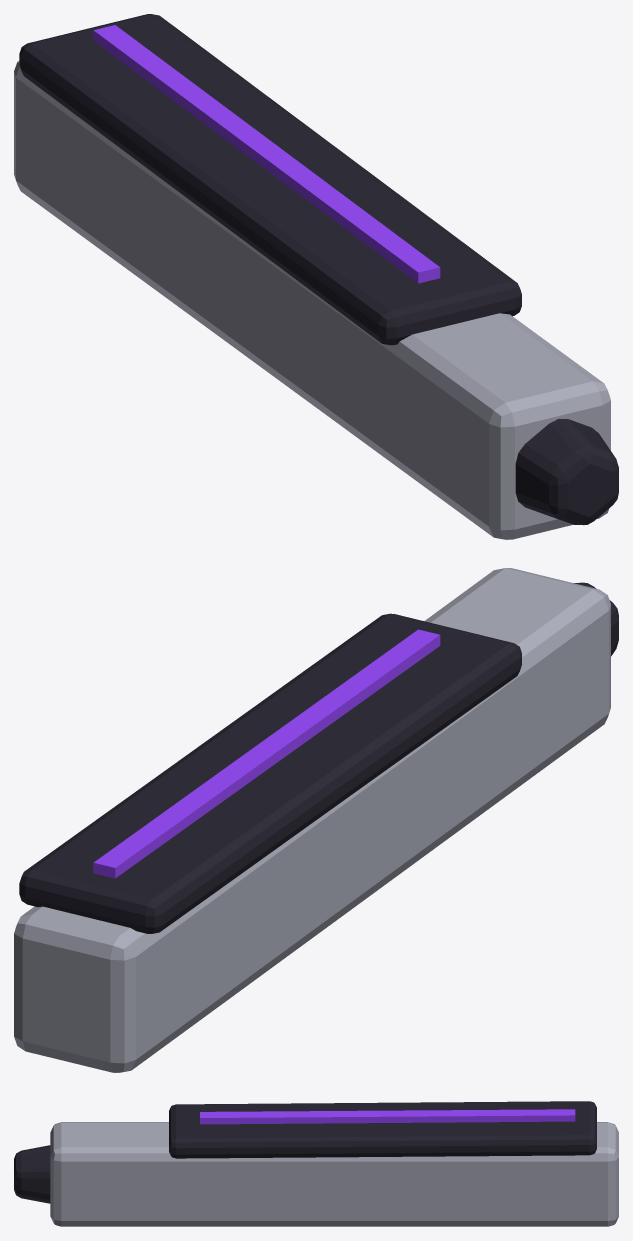
The model's file is crucible_shin.fbx.
3 renders of one model, top to bottom at view 1: azimuth 30°, elevation 25°; view 2: azimuth 150°, elevation 25°; view 3: azimuth 270°, elevation 25°, orthographic. The views are drawn at different scales.
Visible parts, largest first — view 1: crucible_shin; view 2: crucible_shin; view 3: crucible_shin.
Boxes of the visible parts, x1,y1,x2,y2 form: crucible_shin: [14, 14, 618, 539]; crucible_shin: [14, 568, 618, 1072]; crucible_shin: [14, 1101, 618, 1226].
Size of the model in its own units: 0.13 by 0.154 by 0.83.
